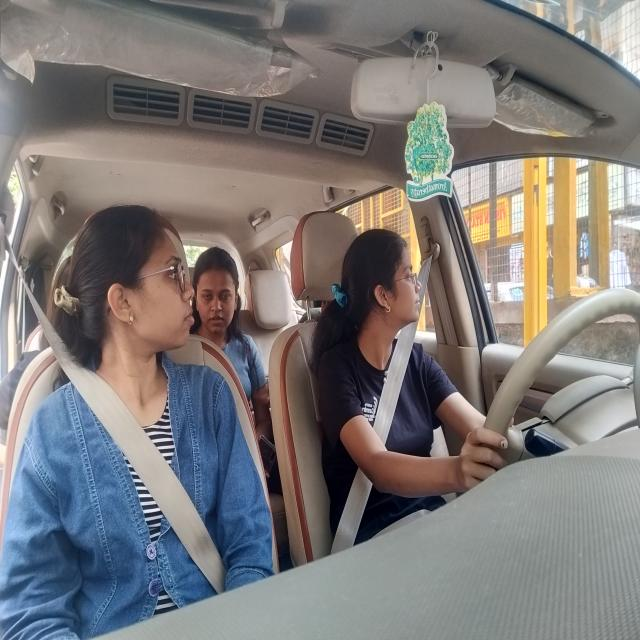LeftRight: (354, 222, 426, 332)
person: (94, 203, 198, 364), (192, 250, 246, 334)
